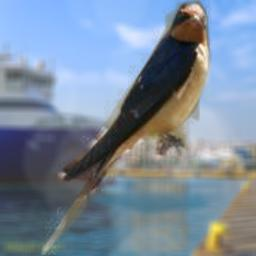Swallow: (41, 0, 212, 256)
